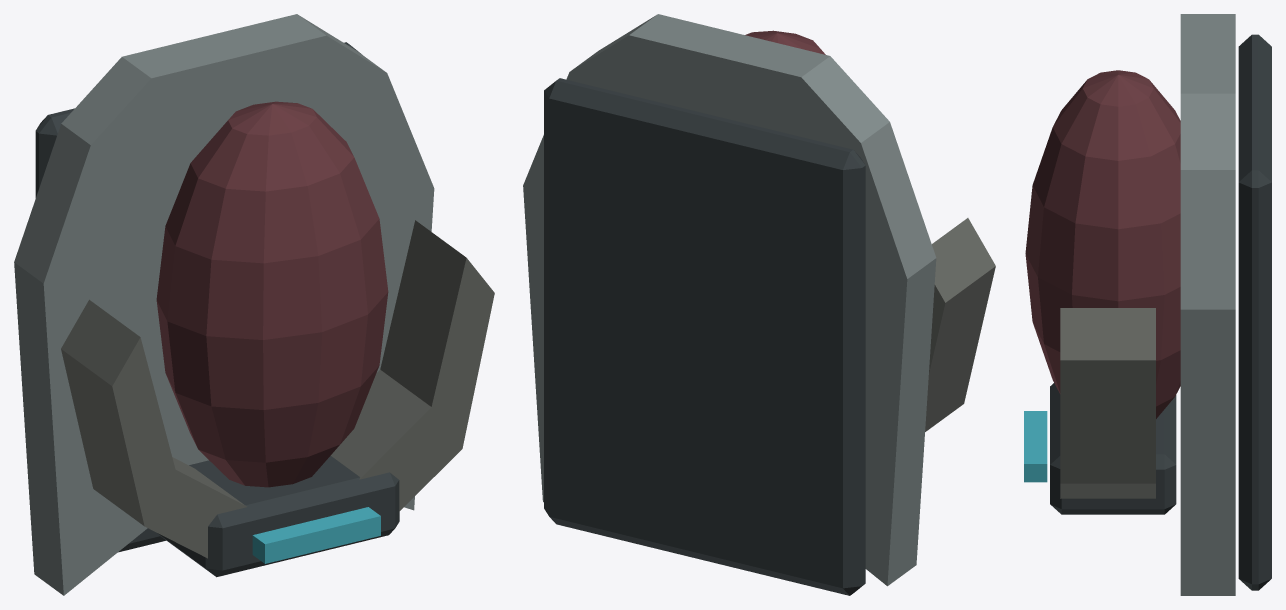
The model's file is person_pack_disruptor.obj.
The picture shows the model from 3 angles, left to right: view 1: azimuth 30°, elevation 25°; view 2: azimuth 150°, elevation 25°; view 3: azimuth 270°, elevation 25°; orthographic projection. The views are drawn at different scales.
Visible parts, largest first — view 1: person_pack_disruptor; view 2: person_pack_disruptor; view 3: person_pack_disruptor.
Part boxes in pixels (<box>): person_pack_disruptor: <box>14,14,494,595</box>; person_pack_disruptor: <box>523,14,995,595</box>; person_pack_disruptor: <box>1024,14,1271,595</box>.
Bounding box in the file's own units: 0.29 × 0.357 × 0.171.
